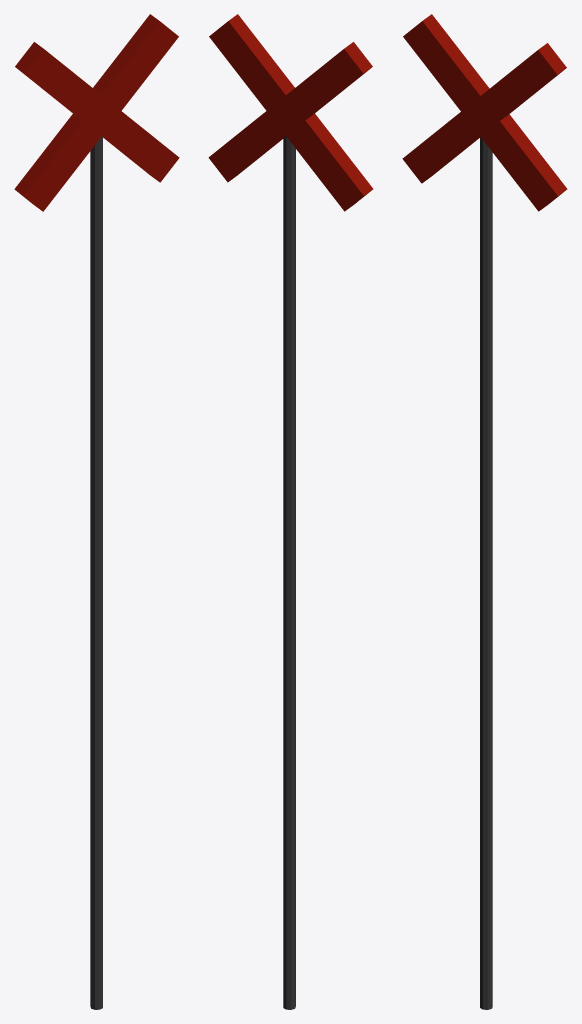
The model's file is Stop_Sign_2.fbx.
3 renders of one model, left to right at view 1: azimuth 30°, elevation 25°; view 2: azimuth 150°, elevation 25°; view 3: azimuth 330°, elevation 25°, orthographic.
Parts seen in each view (by area): view 1: pCylinder4; view 2: pCylinder4; view 3: pCylinder4.
Boxes of the visible parts, <box> form: pCylinder4: <box>14,14,179,1009</box>; pCylinder4: <box>208,14,373,1009</box>; pCylinder4: <box>402,14,567,1009</box>.
Size of the model in its own units: 1.1 by 6.57 by 0.1171.
